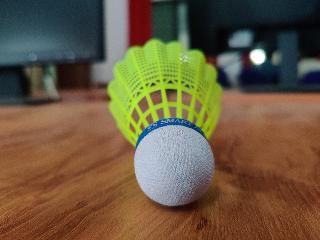shuttlecock: (106, 37, 220, 207)
